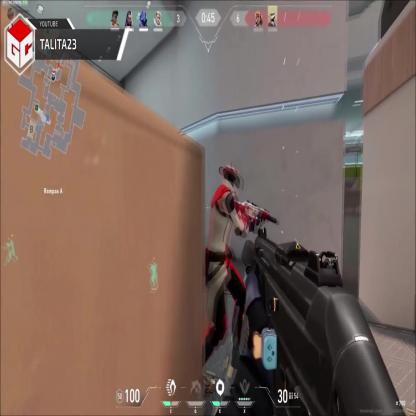enemy: (202, 157, 252, 373)
enemy_head: (220, 163, 239, 191)
